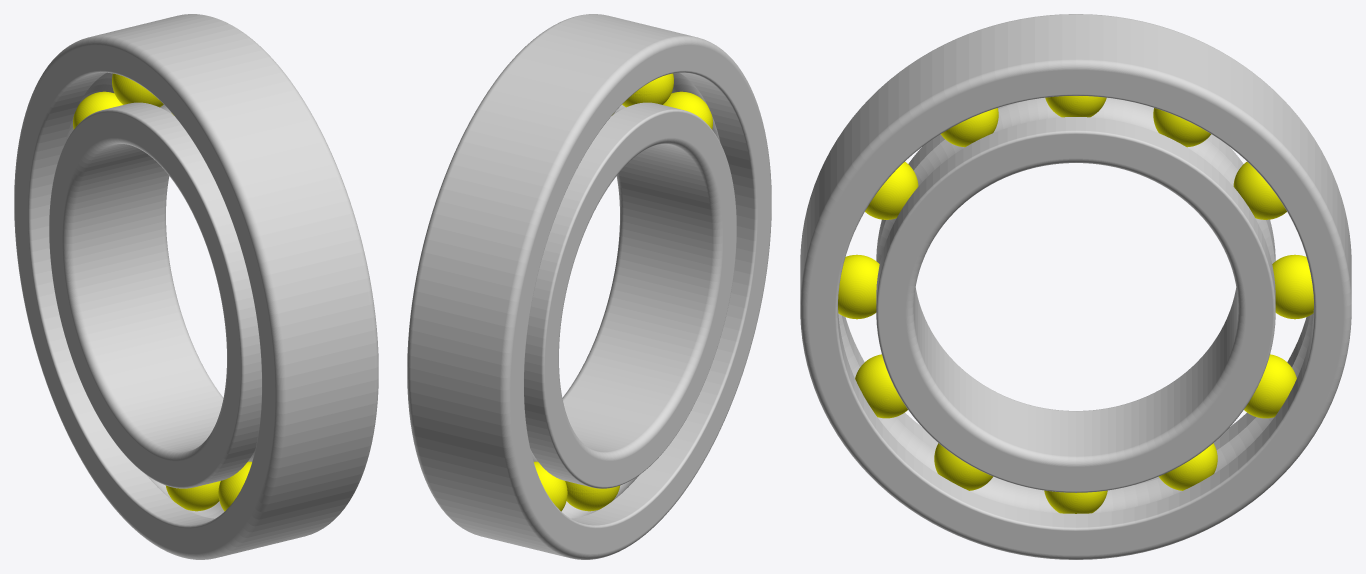
File: model_web.glb
3 renders of one model, left to right at view 1: azimuth 30°, elevation 25°; view 2: azimuth 150°, elevation 25°; view 3: azimuth 270°, elevation 25°, orthographic. The views are drawn at different scales.
Visible parts, largest first — view 1: Node1, Node2; view 2: Node1, Node2; view 3: Node1, Node2.
Part boxes in pixels (box(x1,y1,x2,y2)): Node1: box(14, 14, 378, 559); Node2: box(73, 73, 251, 511); Node1: box(407, 14, 771, 559); Node2: box(534, 73, 712, 511); Node1: box(800, 14, 1351, 559); Node2: box(838, 96, 1313, 513).
Bounding box in the file's own units: 15 × 68 × 67.98.
